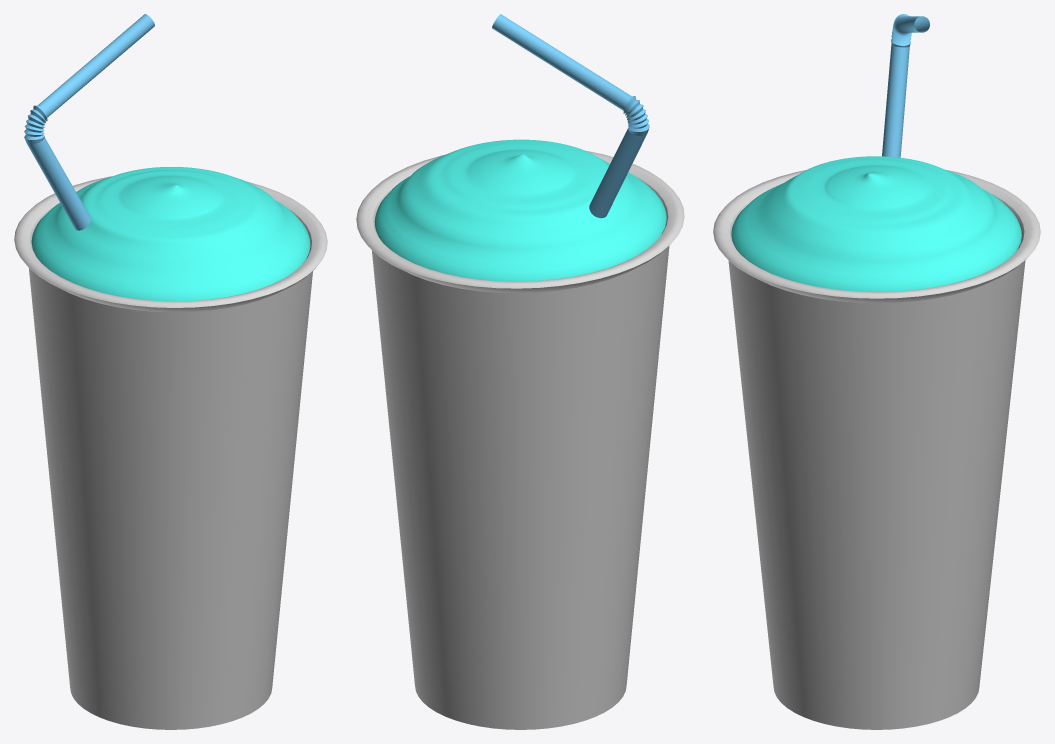
The model's file is slush.fbx.
The picture shows the model from 3 angles, left to right: view 1: azimuth 30°, elevation 25°; view 2: azimuth 150°, elevation 25°; view 3: azimuth 270°, elevation 25°; orthographic projection. The views are drawn at different scales.
Visible parts, largest first — view 1: Cylinder002, Cylinder003, Cylinder004; view 2: Cylinder002, Cylinder003, Cylinder004; view 3: Cylinder002, Cylinder003, Cylinder004.
Boxes of the visible parts, x1=… form: Cylinder002: x1=14, y1=176, x2=327, y2=729; Cylinder003: x1=31, y1=167, x2=310, y2=301; Cylinder004: x1=24, y1=14, x2=154, y2=230; Cylinder002: x1=356, y1=150, x2=684, y2=729; Cylinder003: x1=374, y1=139, x2=666, y2=281; Cylinder004: x1=492, y1=14, x2=649, y2=218; Cylinder002: x1=713, y1=170, x2=1040, y2=729; Cylinder003: x1=731, y1=156, x2=1021, y2=291; Cylinder004: x1=882, y1=14, x2=929, y2=157.
Size of the model in its own units: 7.66 by 17.87 by 7.93.
